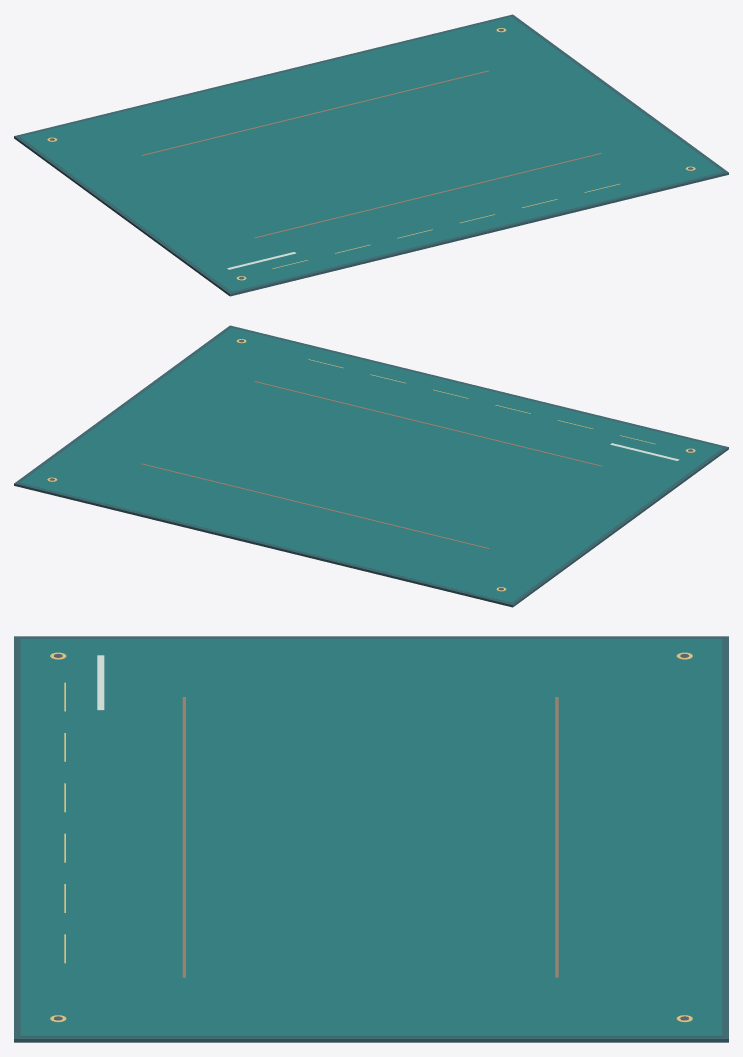
File: 297_L122_PCB_Main.glb
3 views of the same model, one above another, from view 1: azimuth 30°, elevation 25°; view 2: azimuth 150°, elevation 25°; view 3: azimuth 270°, elevation 25° (orthographic). The views are drawn at different scales.
Parts seen in each view (by area): view 1: L122_mask_top__PSMAT__mask_top, L122_pcb_substrate__PSMAT__pcb_substrate, L122_copper_dark__PSMAT__copper_dark; view 2: L122_mask_top__PSMAT__mask_top, L122_pcb_substrate__PSMAT__pcb_substrate, L122_copper_dark__PSMAT__copper_dark; view 3: L122_mask_top__PSMAT__mask_top, L122_pcb_substrate__PSMAT__pcb_substrate, L122_copper_dark__PSMAT__copper_dark, L122_gold__PSMAT__gold.
Boxes of the visible parts, x1,y1,x2,y2 form: L122_mask_top__PSMAT__mask_top: (20,16,722,291); L122_pcb_substrate__PSMAT__pcb_substrate: (14,14,728,296); L122_copper_dark__PSMAT__copper_dark: (141,70,601,238); L122_mask_top__PSMAT__mask_top: (20,327,722,602); L122_pcb_substrate__PSMAT__pcb_substrate: (14,325,728,607); L122_copper_dark__PSMAT__copper_dark: (141,381,601,548); L122_mask_top__PSMAT__mask_top: (20,639,722,1036); L122_pcb_substrate__PSMAT__pcb_substrate: (14,636,728,1042); L122_copper_dark__PSMAT__copper_dark: (182,697,558,977); L122_gold__PSMAT__gold: (50,652,692,1022).
Size of the model in its own units: 0.56 by 0.00284 by 0.42.
